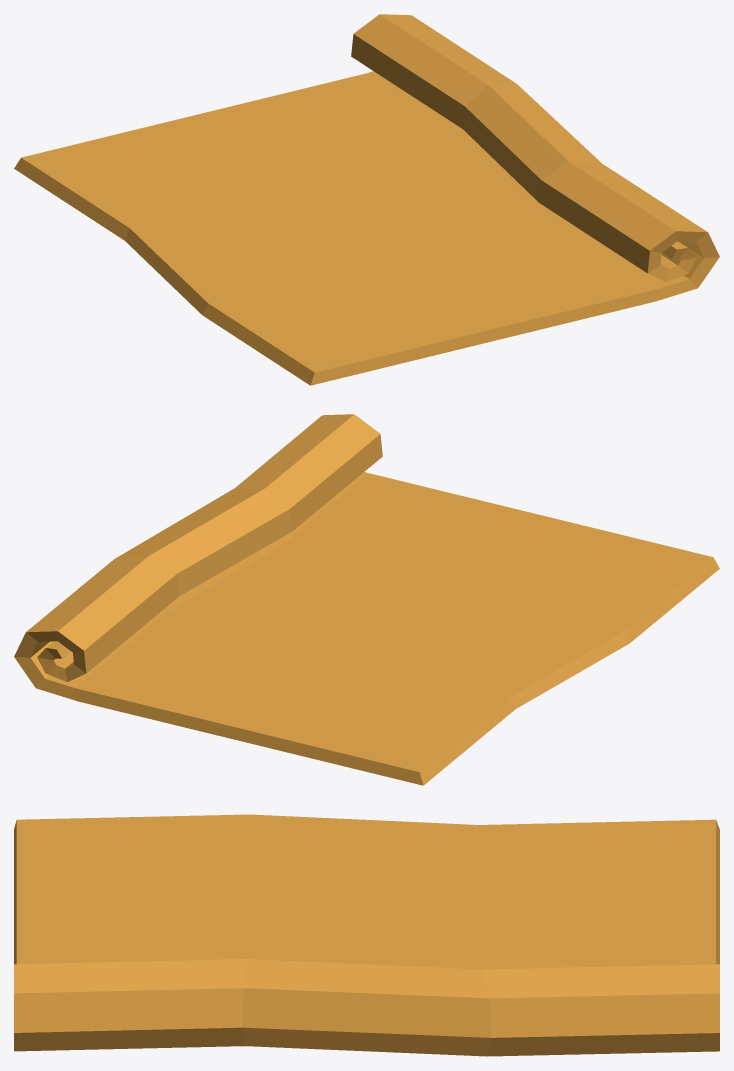
The model's file is egypt-rug.fbx.
3 renders of one model, top to bottom at view 1: azimuth 30°, elevation 25°; view 2: azimuth 150°, elevation 25°; view 3: azimuth 270°, elevation 25°, orthographic. The views are drawn at different scales.
Visible parts, largest first — view 1: egypt-rug; view 2: egypt-rug; view 3: egypt-rug.
Boxes of the visible parts, box(x1,y1,x2,y2) form: egypt-rug: box(14, 14, 719, 385); egypt-rug: box(14, 414, 719, 785); egypt-rug: box(14, 814, 719, 1056).
Bounding box in the file's own units: 1.42 × 0.2079 × 1.71.
